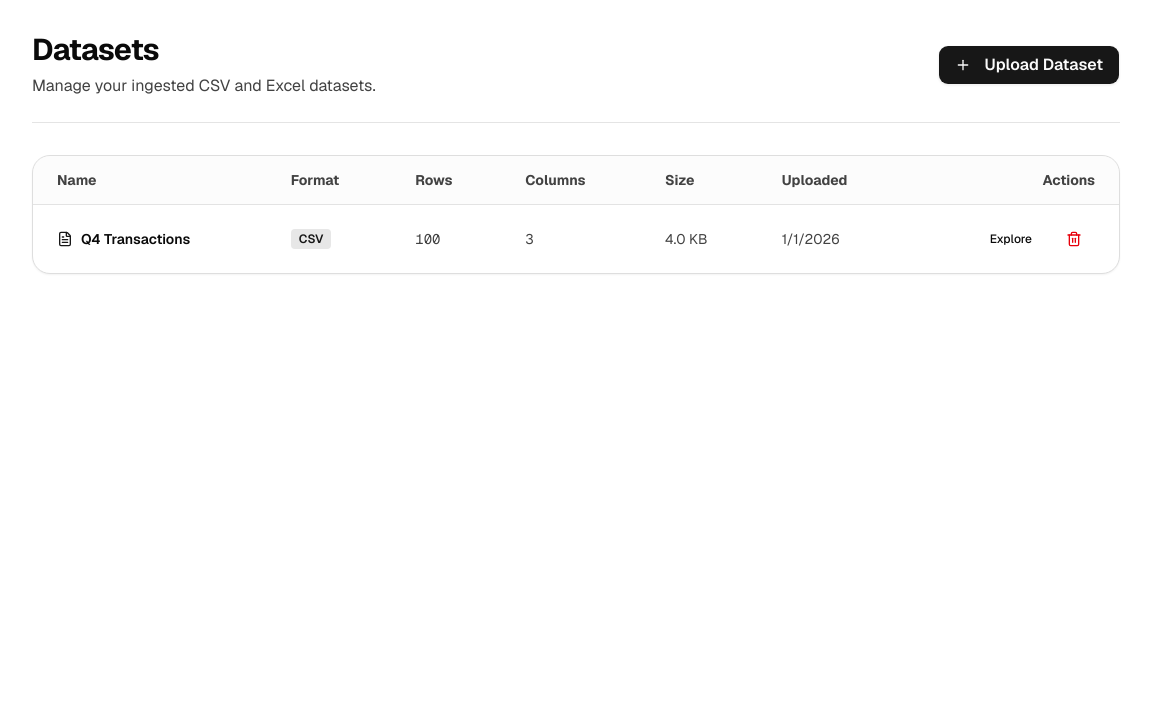
M2 Dataset Experience › DatasetsListPage › opens delete confirmation modal with dataset name and triggers deletion
Later steps or results of the test are not shown.
Expected: the text "Q4 Transactions" is shown, [81,229,190,249]
Click the 3rd button.
click(1074, 239)  # box [1053,221,1095,257]
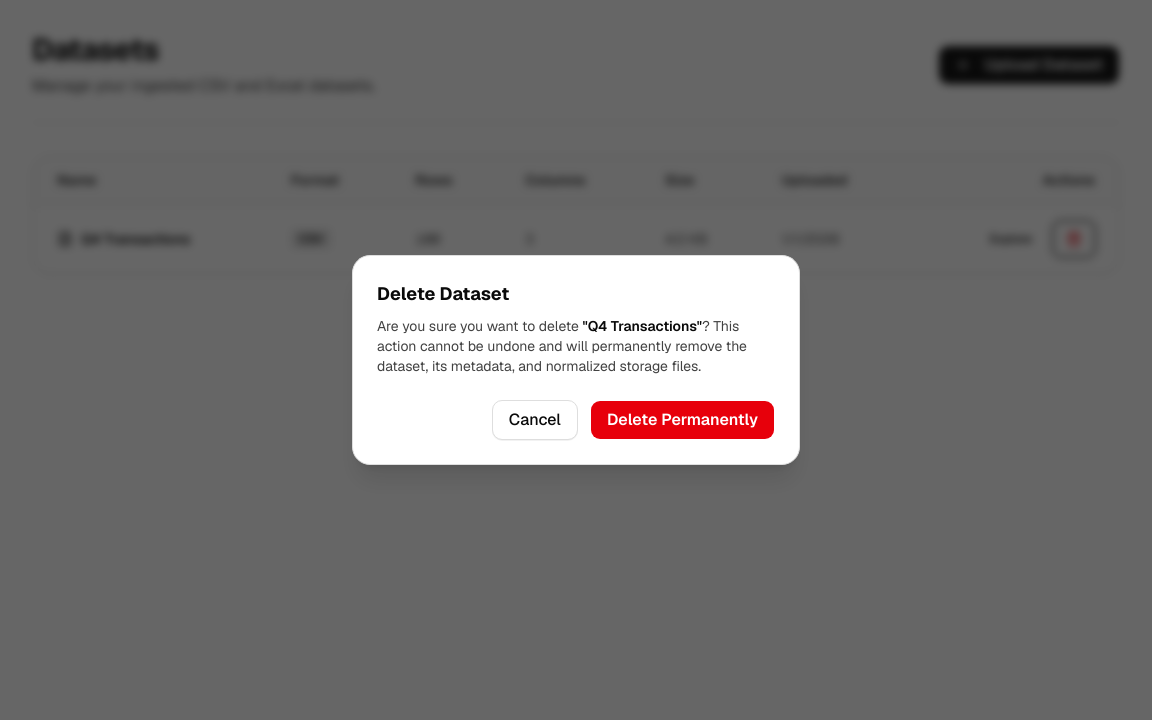
Expected: the text "Are you sure you want to delete" is shown, [377,317,579,335]
Expected: the text "\"Q4 Transactions\"" is shown, [582,317,702,335]
